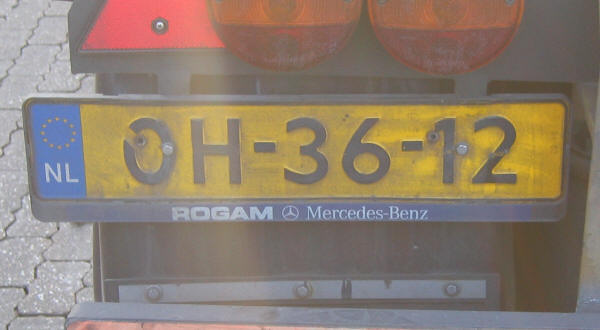license_plate: (23, 96, 571, 207)
